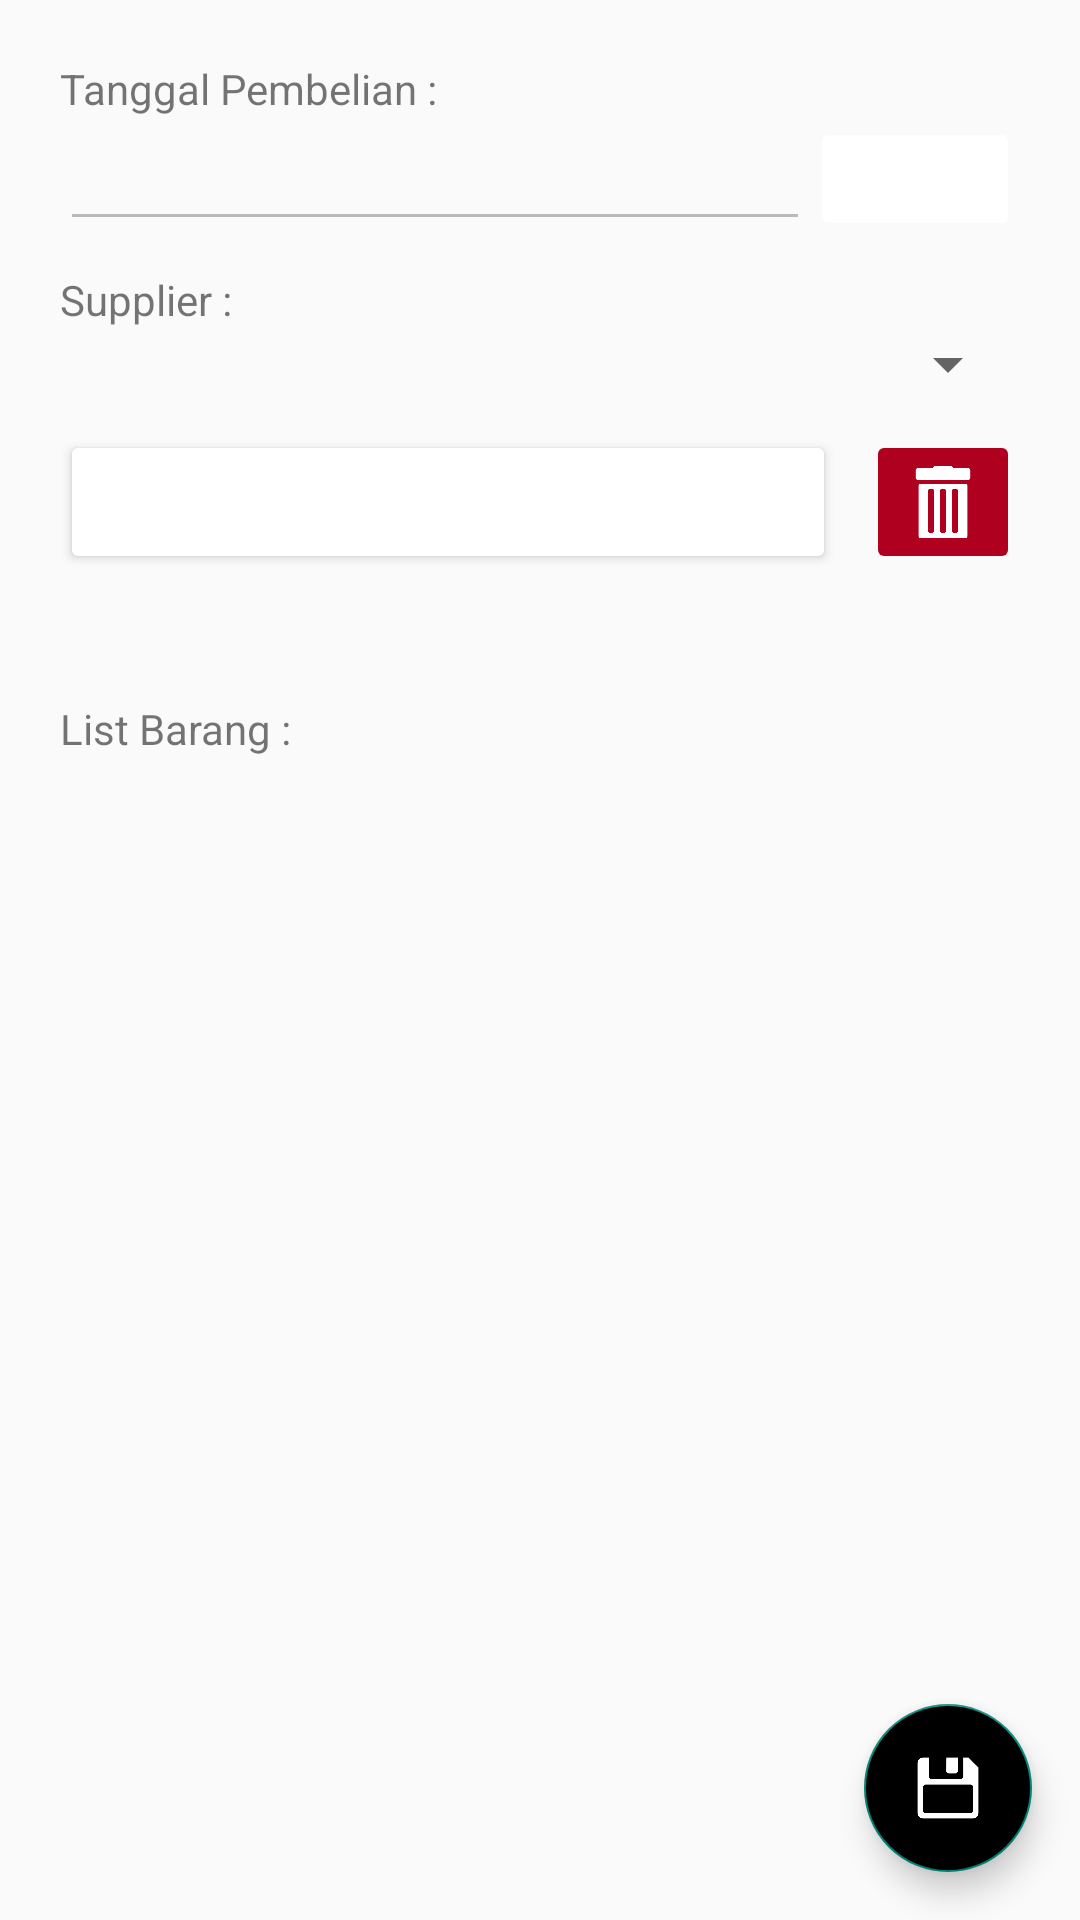

Point at icon controls on the screen. Image size 1080 × 1920, points as [x,y].
save: [948,1788]
trash: [943,502]
